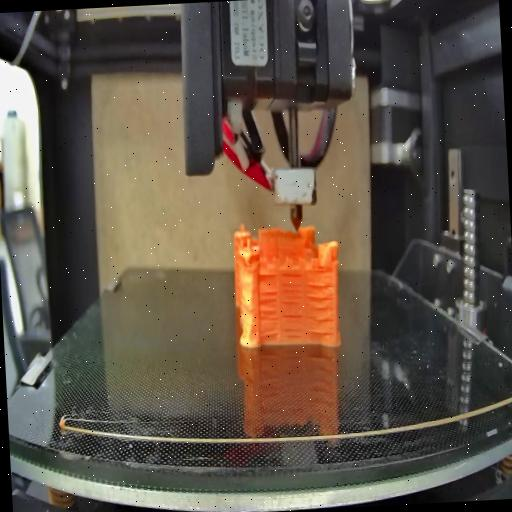cracks: (305, 281, 338, 334), (280, 284, 304, 338), (258, 288, 280, 338), (257, 270, 275, 280), (280, 272, 302, 280)
